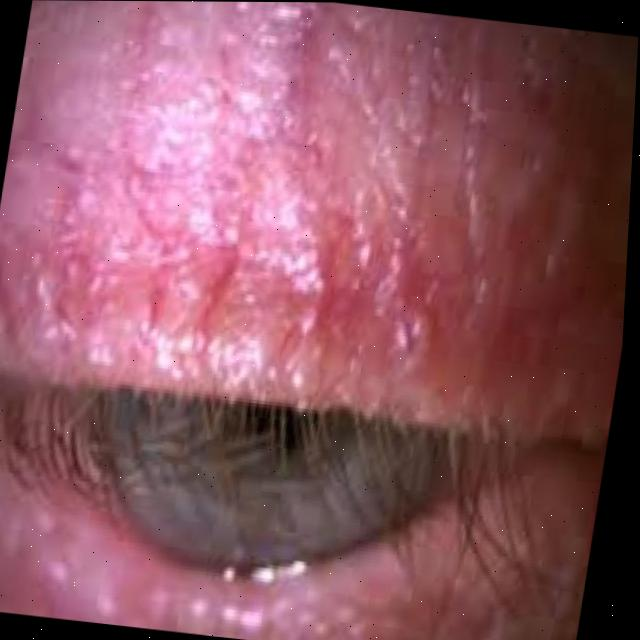Rosacea: (29, 0, 571, 381)
